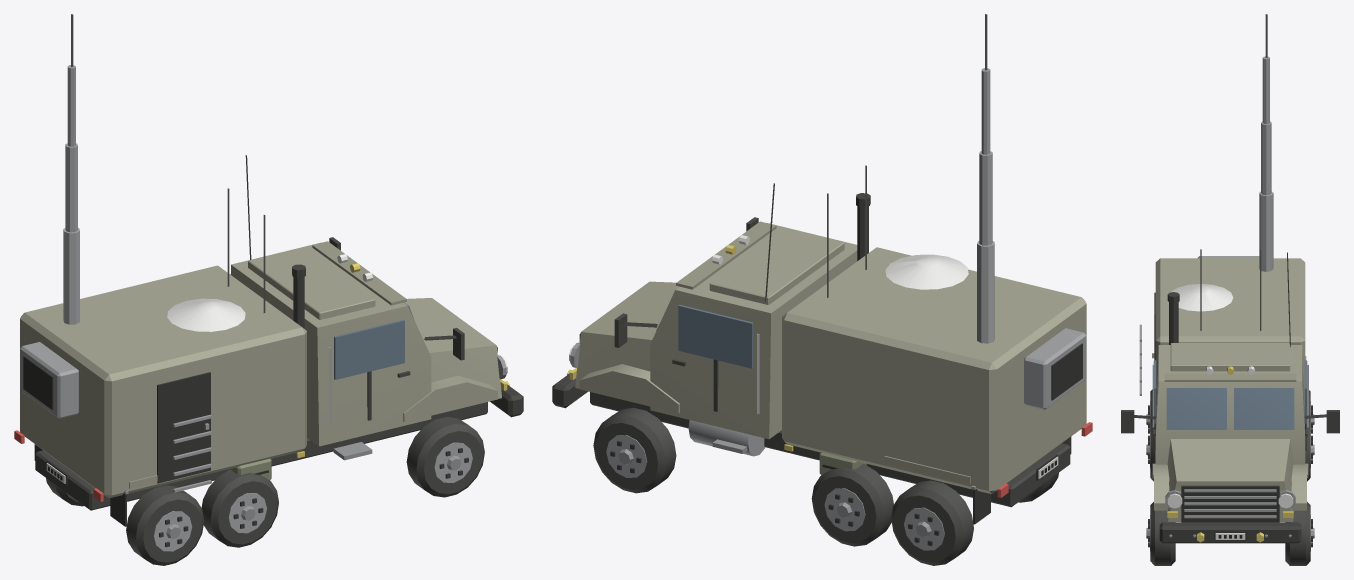
Rendered from radio.glb.
The picture shows the model from 3 angles, left to right: view 1: azimuth 30°, elevation 25°; view 2: azimuth 150°, elevation 25°; view 3: azimuth 270°, elevation 25°; orthographic projection. The views are drawn at different scales.
Parts seen in each view (by area): view 1: hull; view 2: hull; view 3: hull.
Part boxes in pixels (x1=…): hull: x1=14, y1=14, x2=523, y2=565; hull: x1=552, y1=14, x2=1092, y2=565; hull: x1=1121, y1=14, x2=1339, y2=565.
Size of the model in its own units: 7.24 by 7.79 by 3.66.
